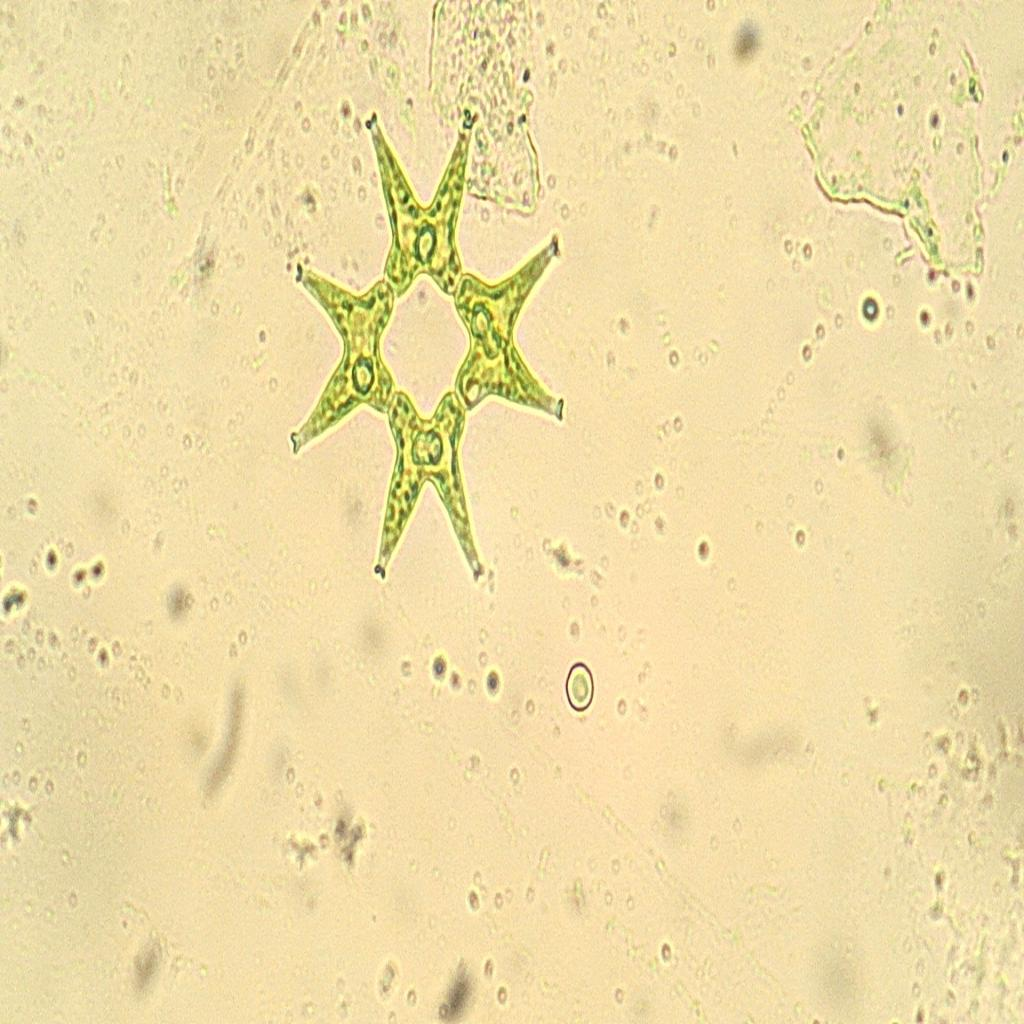Pediastrum_75O: (264, 89, 572, 623)
